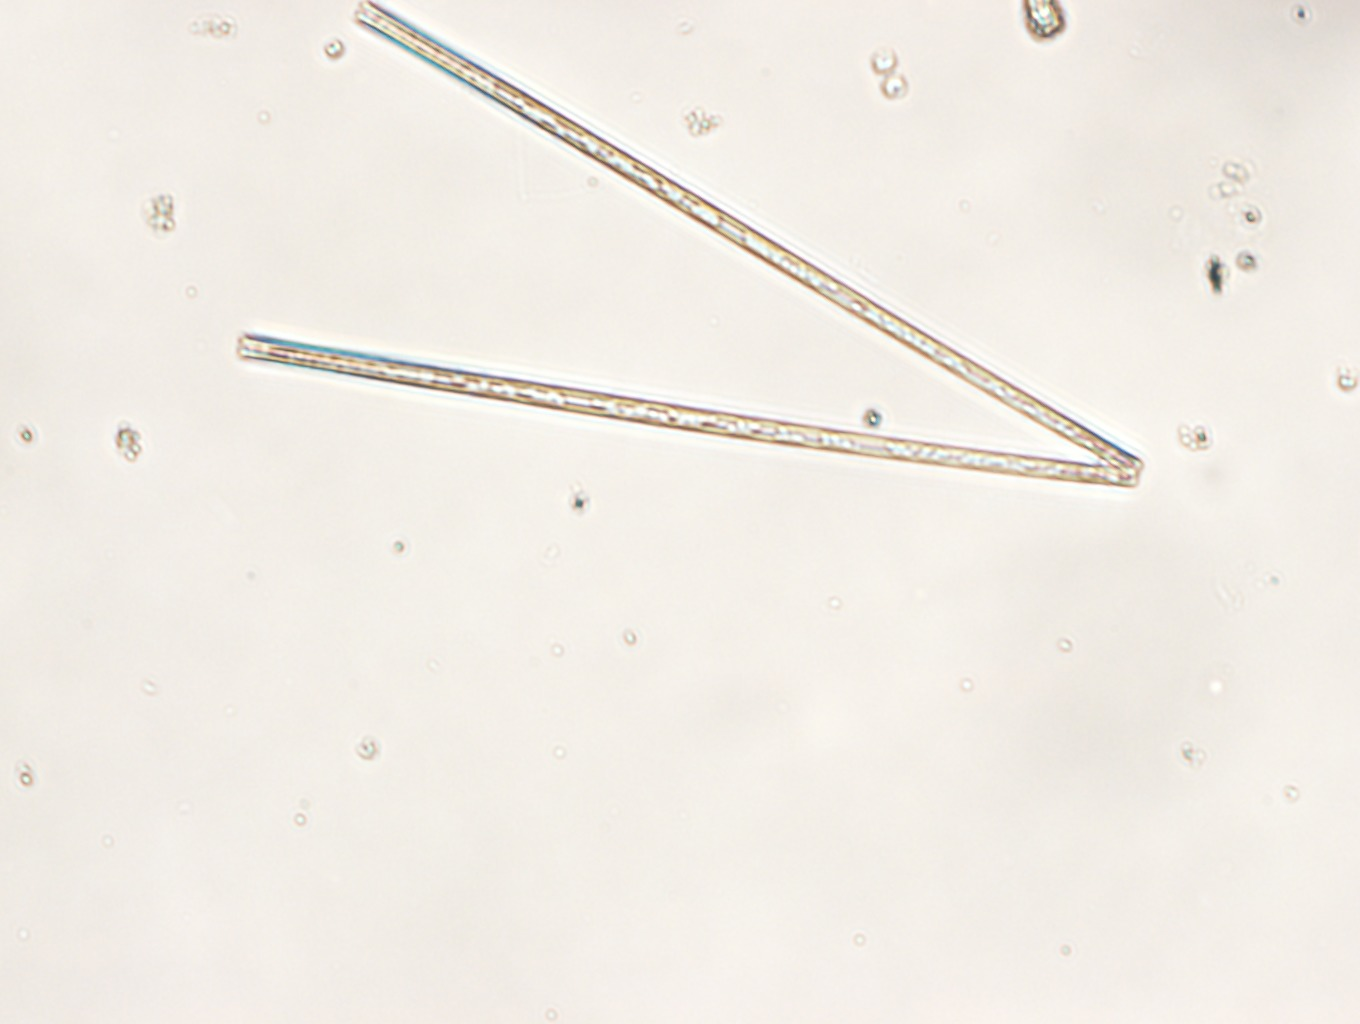thalassionema frauenfeldii: (233, 1, 1146, 489)
